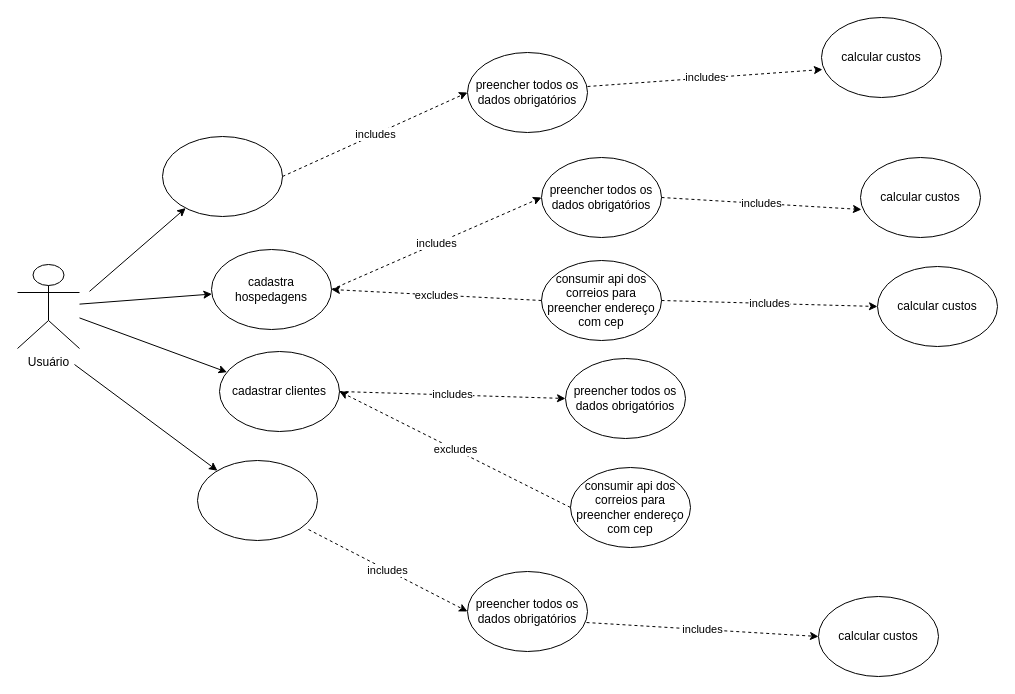
The diagram is 1015 pixels wide and 694 high, and some of its shapes have lost their labels. The centre of each missing label's shape, as x and y in pixels:
cadastrar transporte: point (222, 176)
cadastrar viajem: point (257, 500)
